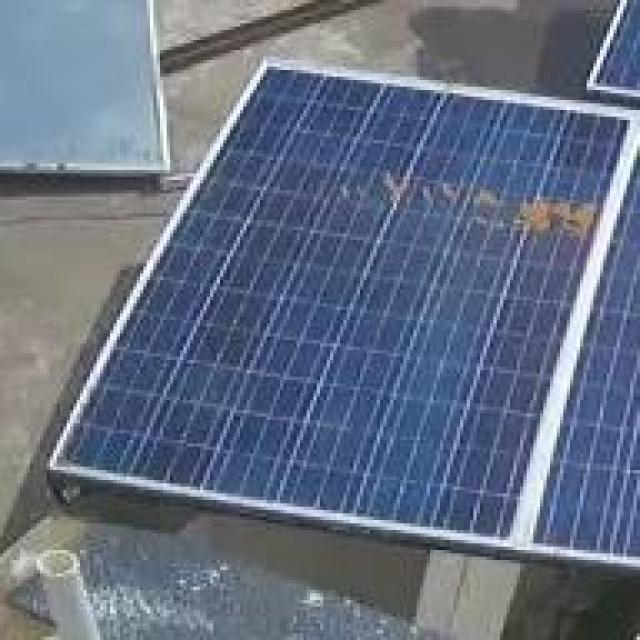Anomaly Solar Panel: (56, 0, 630, 589)
Surface Contaminant: (374, 158, 599, 248)
